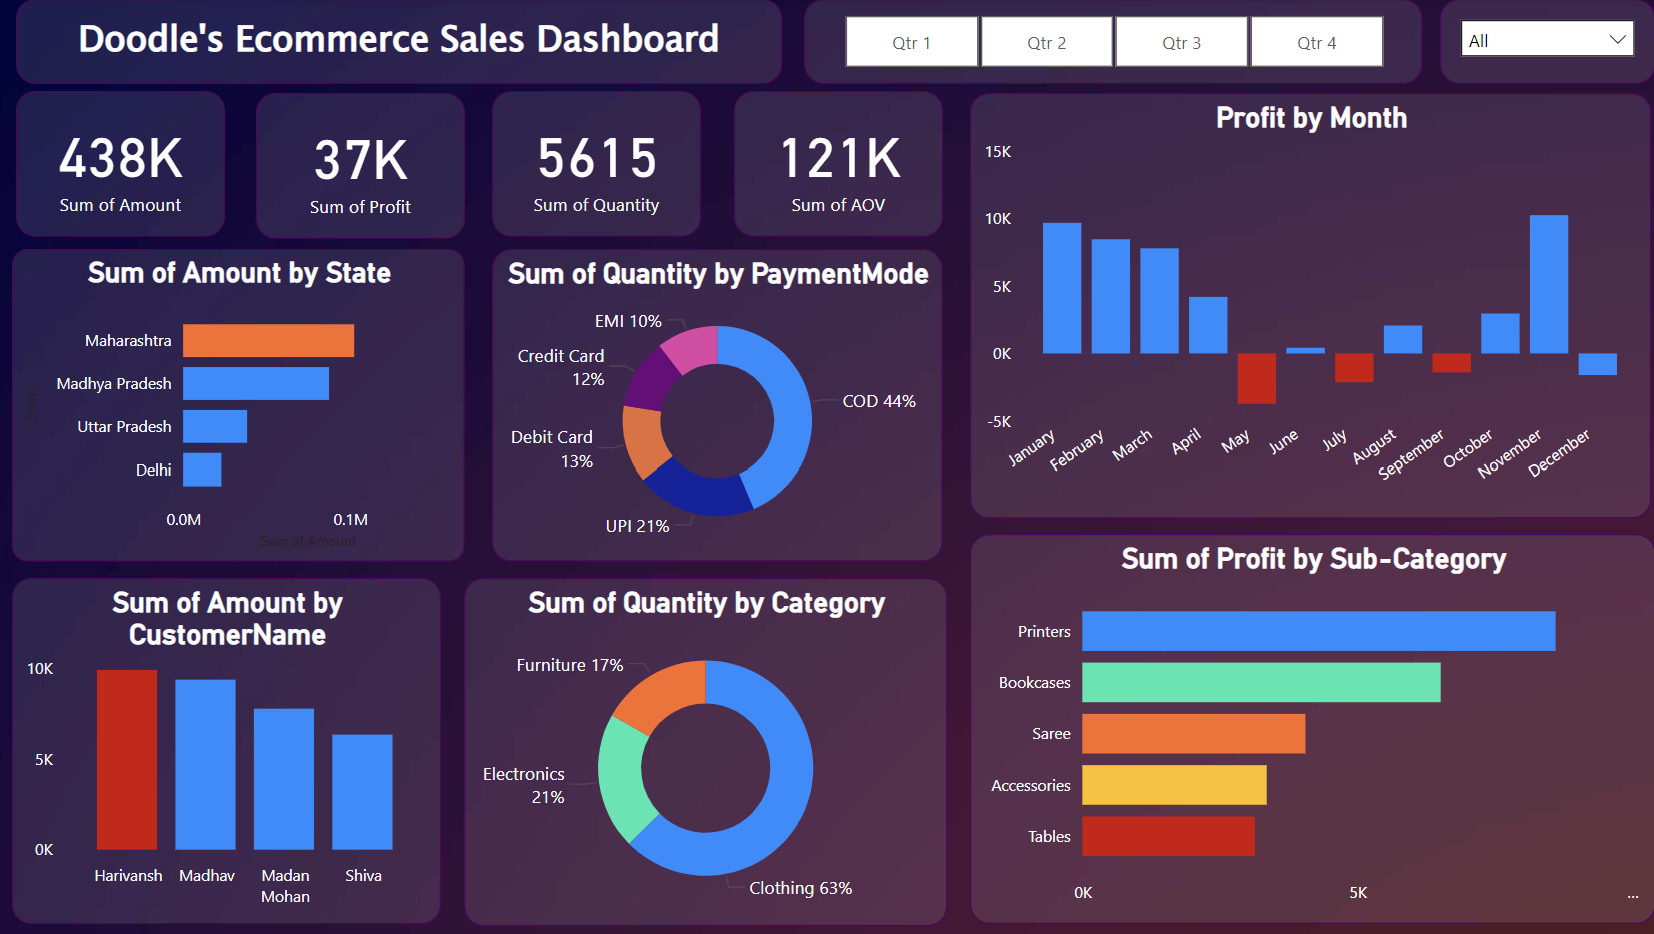

The dashboard page shown, as its layout file describes it:
{"tool":"powerbi","page":{"name":"Page 1","canvas":[1280,720],"ordinal":0},"visuals":[{"type":"textbox","box":[18.3,1.7,586.7,65],"z":0},{"type":"columnChart","title":"Profit by Month","fields":{"Category":["Orders.Order Date.Variation.Date Hierarchy.Month"],"Y":["Details.Profit"]},"box":[748.3,73.3,521.7,325],"z":1000},{"type":"barChart","fields":{"Category":["Details.Sub-Category"],"Y":["Details.Profit"]},"box":[748.3,410,525,298.3],"z":2000},{"type":"donutChart","fields":{"Category":["Details.Category"],"Y":["Details.Quantity"]},"box":[361.7,443.3,370,266.7],"z":3000},{"type":"donutChart","fields":{"Y":["Details.Quantity"],"Category":["Details.PaymentMode"]},"box":[383.3,193.3,345,238.3],"z":4000},{"type":"card","fields":{"Values":["Details.Amount"]},"box":[18.3,71.7,160,111.7],"z":5000},{"type":"card","fields":{"Values":["Details.Profit"]},"box":[201.7,73.3,160,111.7],"z":6000},{"type":"card","fields":{"Values":["Details.Quantity"]},"box":[383.3,71.7,160,111.7],"z":7000},{"type":"card","fields":{"Values":["Details.AOV"]},"box":[568.3,71.7,160,111.7],"z":8000},{"type":"clusteredBarChart","fields":{"Category":["Orders.State"],"Y":["Details.Amount"]},"box":[15,193.3,346.7,238.3],"z":9000},{"type":"columnChart","fields":{"Category":["Orders.CustomerName"],"Y":["Details.Amount"]},"box":[15,443.3,328.3,265],"z":10000},{"type":"slicer","fields":{"Values":["Orders.Order Date.Variation.Date Hierarchy.Quarter"]},"box":[621.7,1.7,473.3,65],"z":11000},{"type":"slicer","fields":{"Values":["Orders.State"]},"box":[1108.3,1.7,165,65],"z":12000}]}

Visuals, with their boxes in screenshot pixels (x1, y1, x2, y2), scaled from the page's 1280x720 canvas onto the 1654x934 screenshot:
textbox: 24 2 782 87
"Profit by Month" columnChart: 967 95 1641 517
barChart - Details.Sub-Category x Details.Profit: 967 532 1645 919
donutChart - Details.Category x Details.Quantity: 467 575 945 921
donutChart - Details.Quantity x Details.PaymentMode: 495 251 941 560
card - Details.Amount: 24 93 230 238
card - Details.Profit: 261 95 467 240
card - Details.Quantity: 495 93 702 238
card - Details.AOV: 734 93 941 238
clusteredBarChart - Orders.State x Details.Amount: 19 251 467 560
columnChart - Orders.CustomerName x Details.Amount: 19 575 444 919
slicer - Orders.Order Date.Variation.Date Hierarchy.Quarter: 803 2 1415 87
slicer - Orders.State: 1432 2 1645 87
